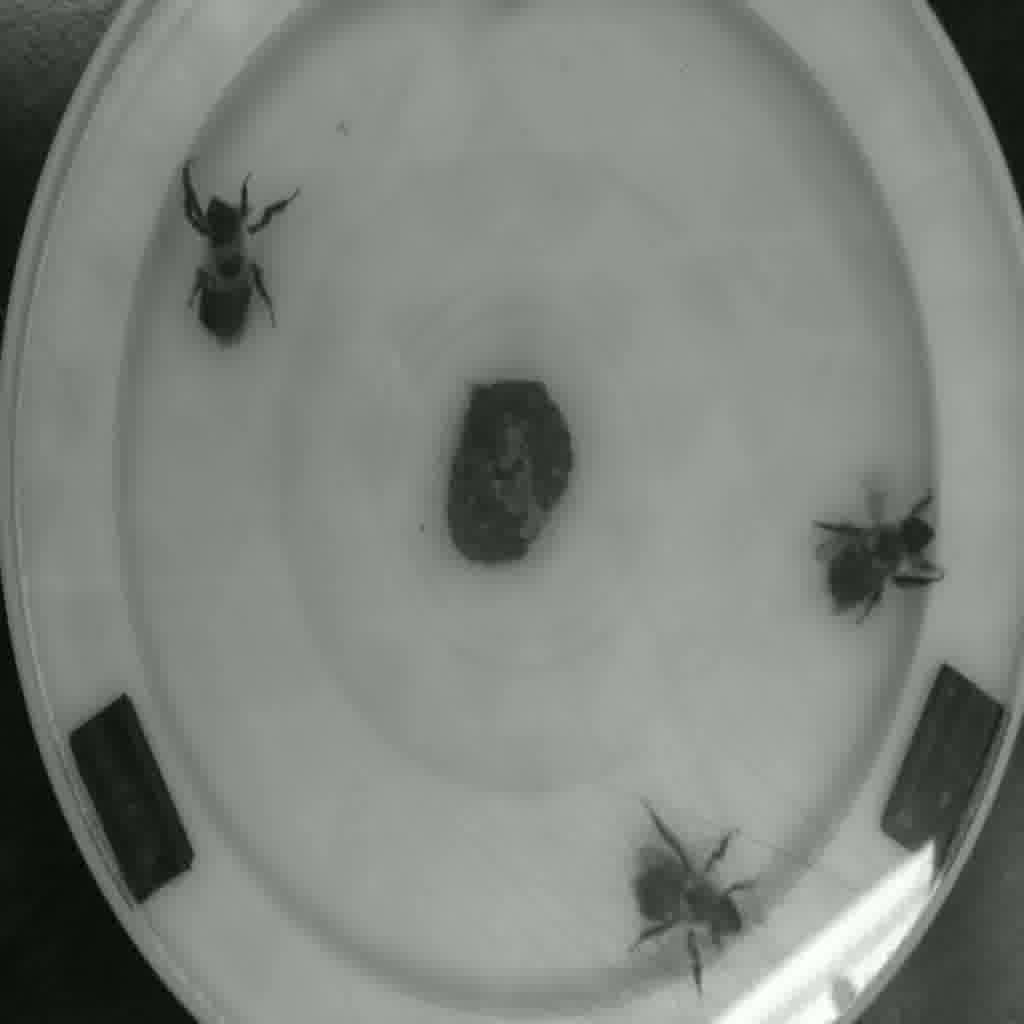bee: (613, 792, 783, 985), (167, 168, 312, 357), (815, 482, 963, 633)
